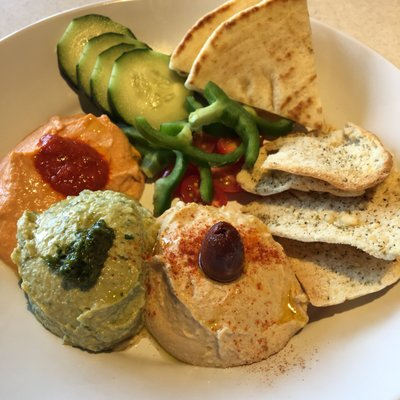soup: (143, 201, 312, 369), (170, 0, 325, 168)
